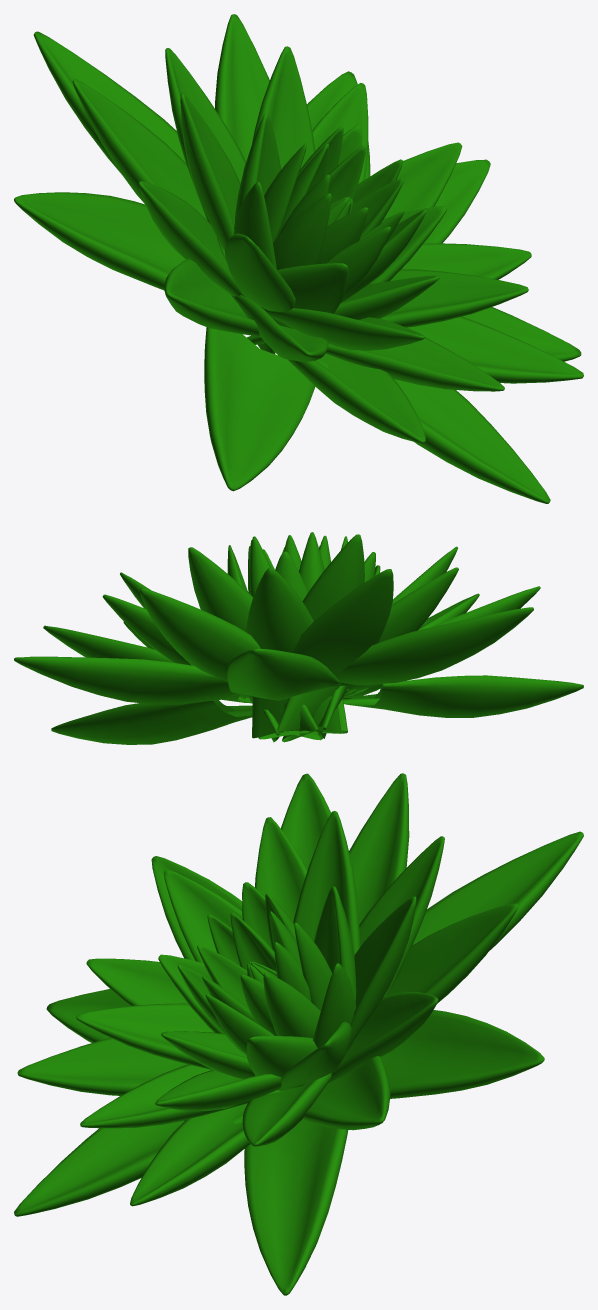
Rendered from succulent1.obj.
3 views of the same model, one above another, from view 1: azimuth 30°, elevation 25°; view 2: azimuth 150°, elevation 25°; view 3: azimuth 270°, elevation 25° (orthographic). The views are drawn at different scales.
Visible parts, largest first — view 1: Echeveria_agavoides.001; view 2: Echeveria_agavoides.001; view 3: Echeveria_agavoides.001.
Boxes of the visible parts, x1,y1,x2,y2 form: Echeveria_agavoides.001: [14, 14, 583, 503]; Echeveria_agavoides.001: [14, 532, 583, 744]; Echeveria_agavoides.001: [14, 773, 583, 1295].
Bounding box in the file's own units: 1.44 × 0.8357 × 1.35.
